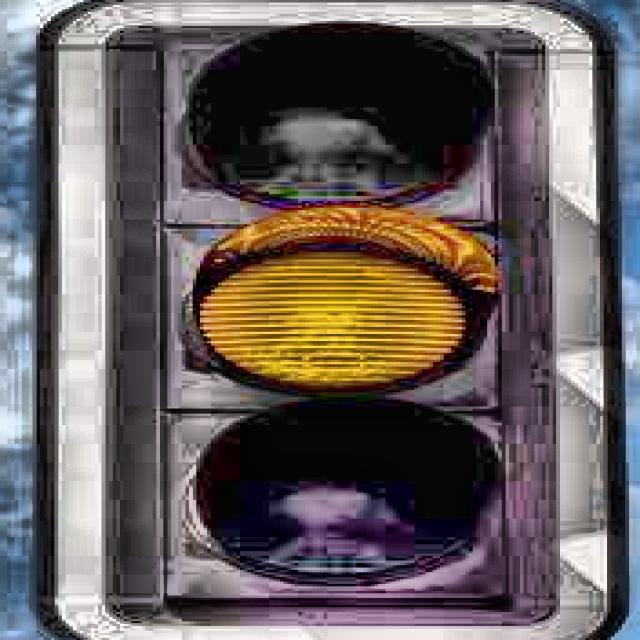yellow: (148, 21, 520, 606)
